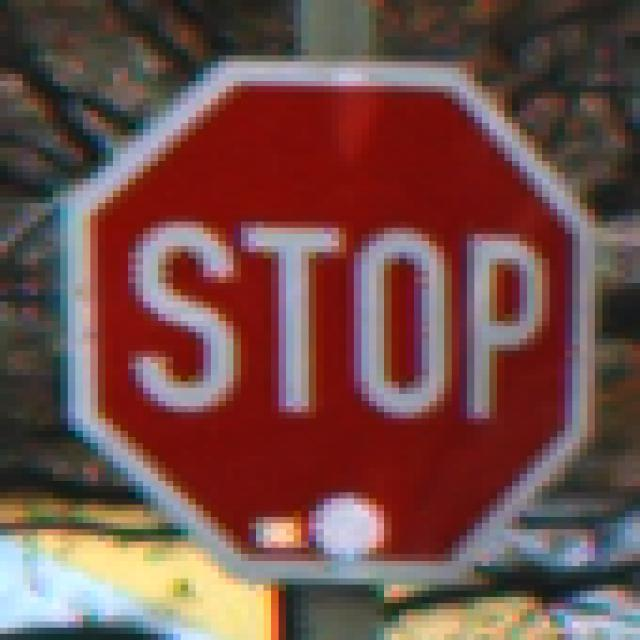STOP: (62, 57, 589, 586)
